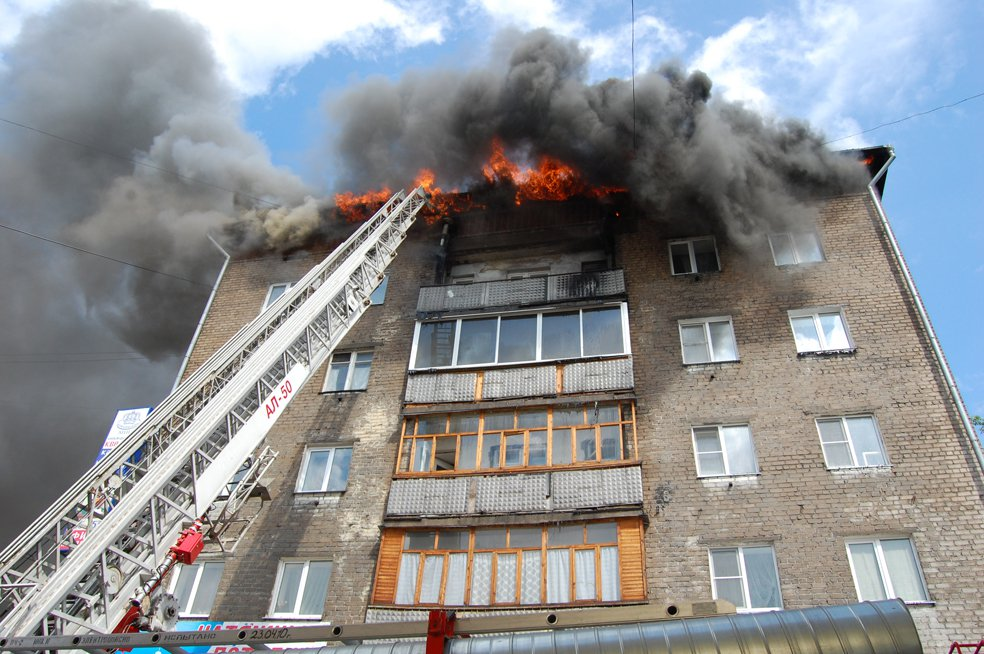fire: (30, 33, 776, 237)
